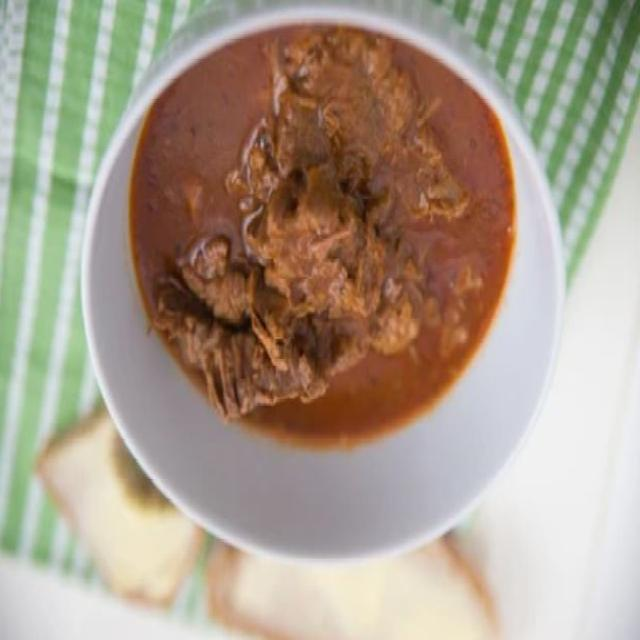kamouniya: (81, 45, 534, 574)
